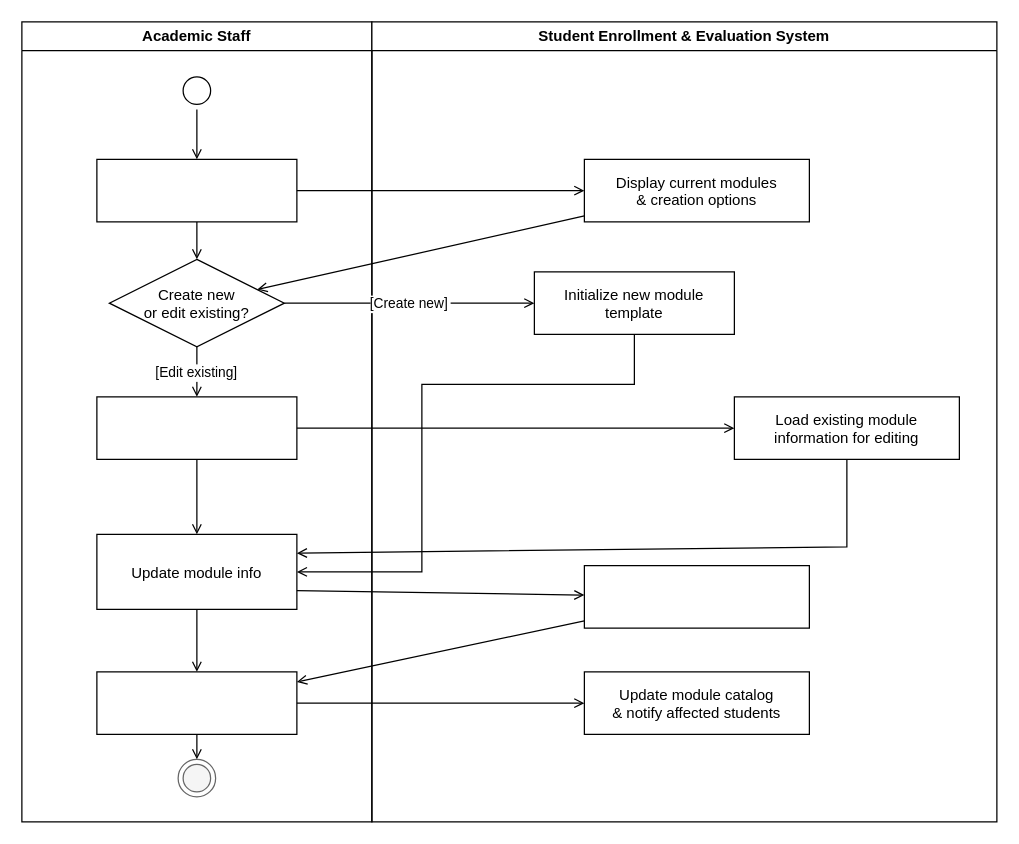
Image size: 1019x844. Some labels were removed from this diagram. The centre of each missing label's shape, as x and y in pixels:
"Access module management interface" belongs at pixel 196 190.
"Save & publish module information" belongs at pixel 196 702.
"Select existing module to edit" belongs at pixel 196 427.
"Validate information completeness & format" belongs at pixel 696 596.
